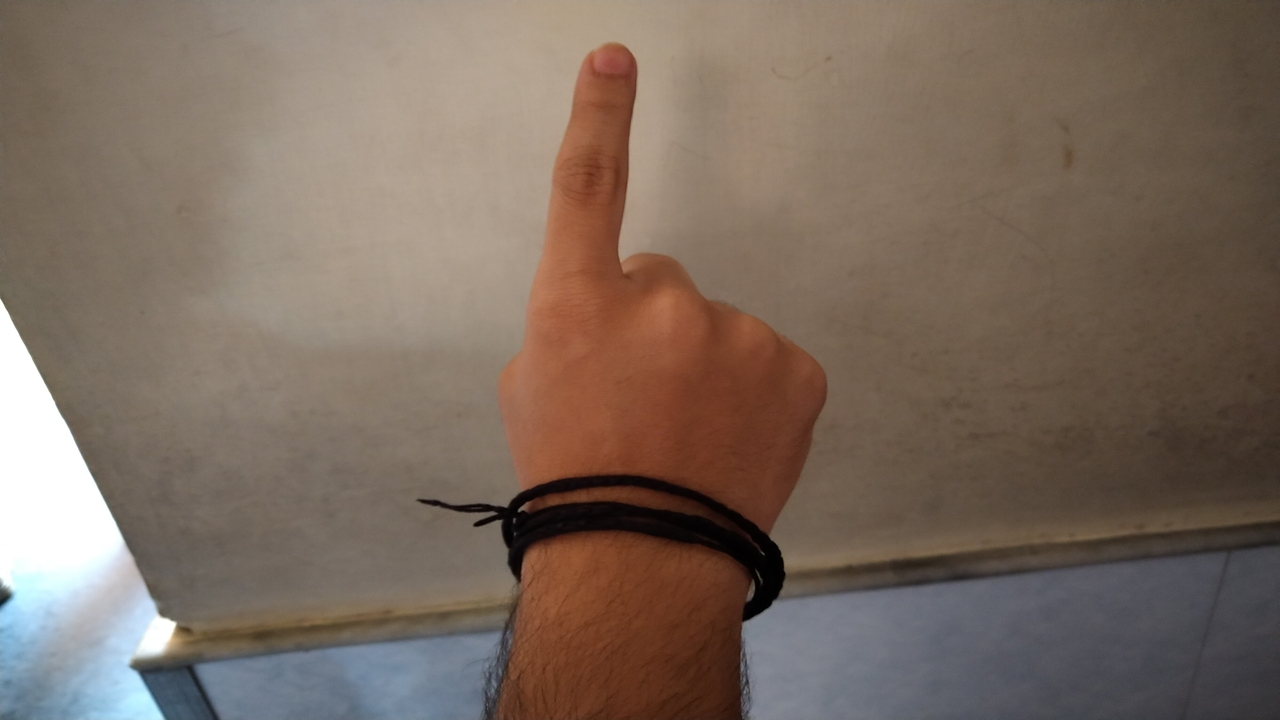fingertip: (576, 40, 636, 90)
